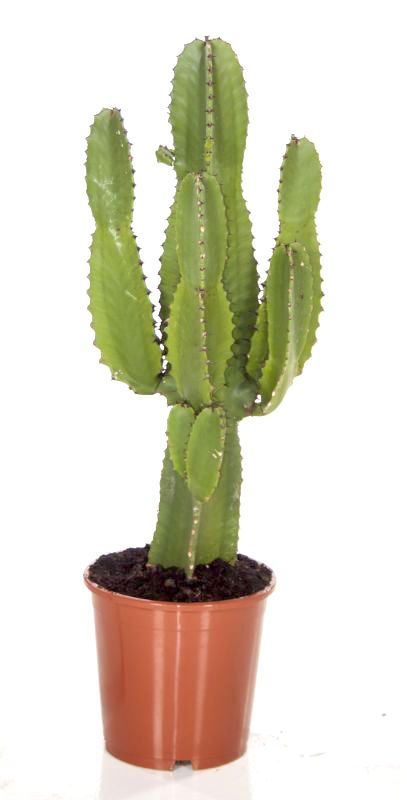plant: (82, 30, 324, 773)
